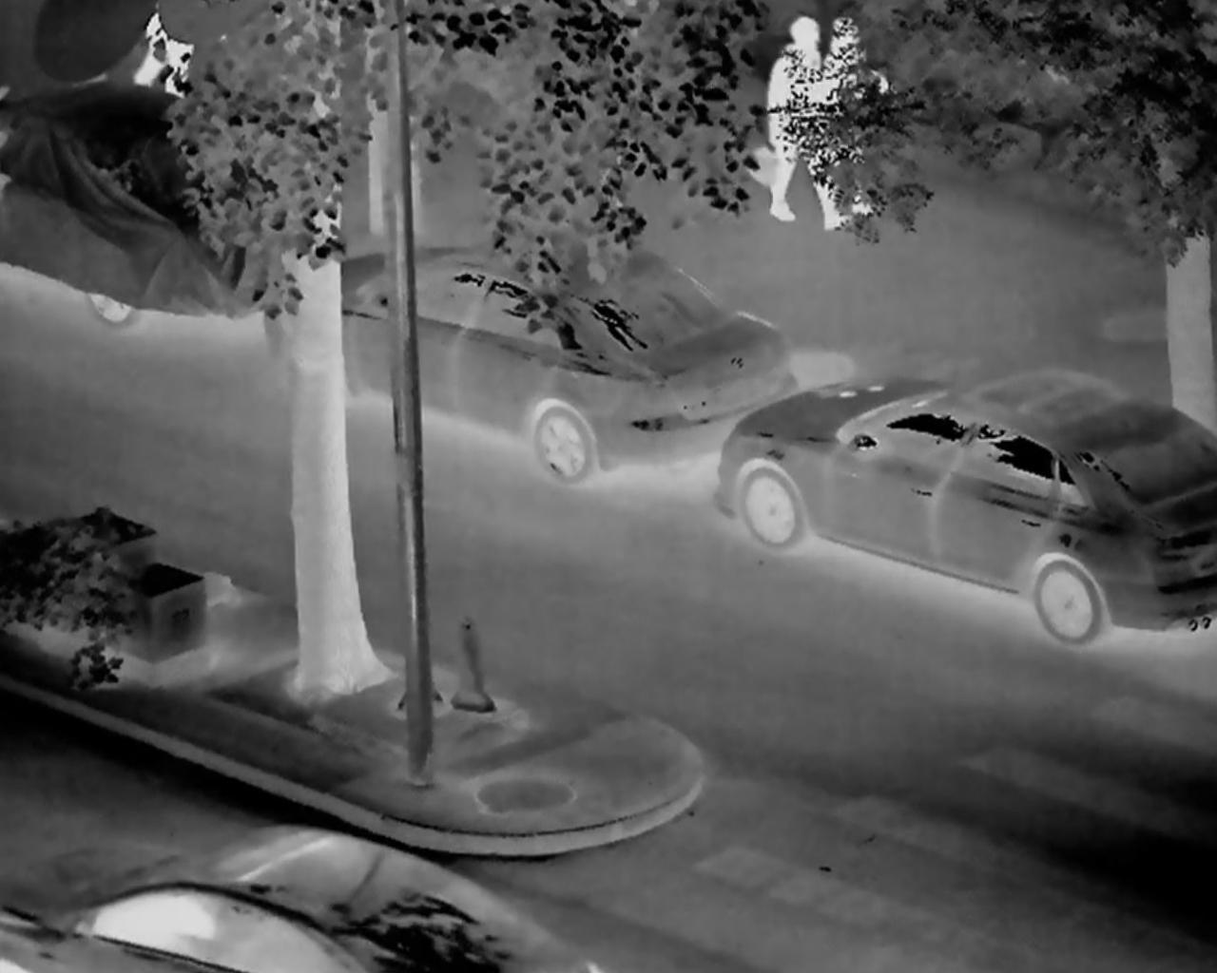person: (744, 15, 839, 234), (827, 25, 904, 203)
